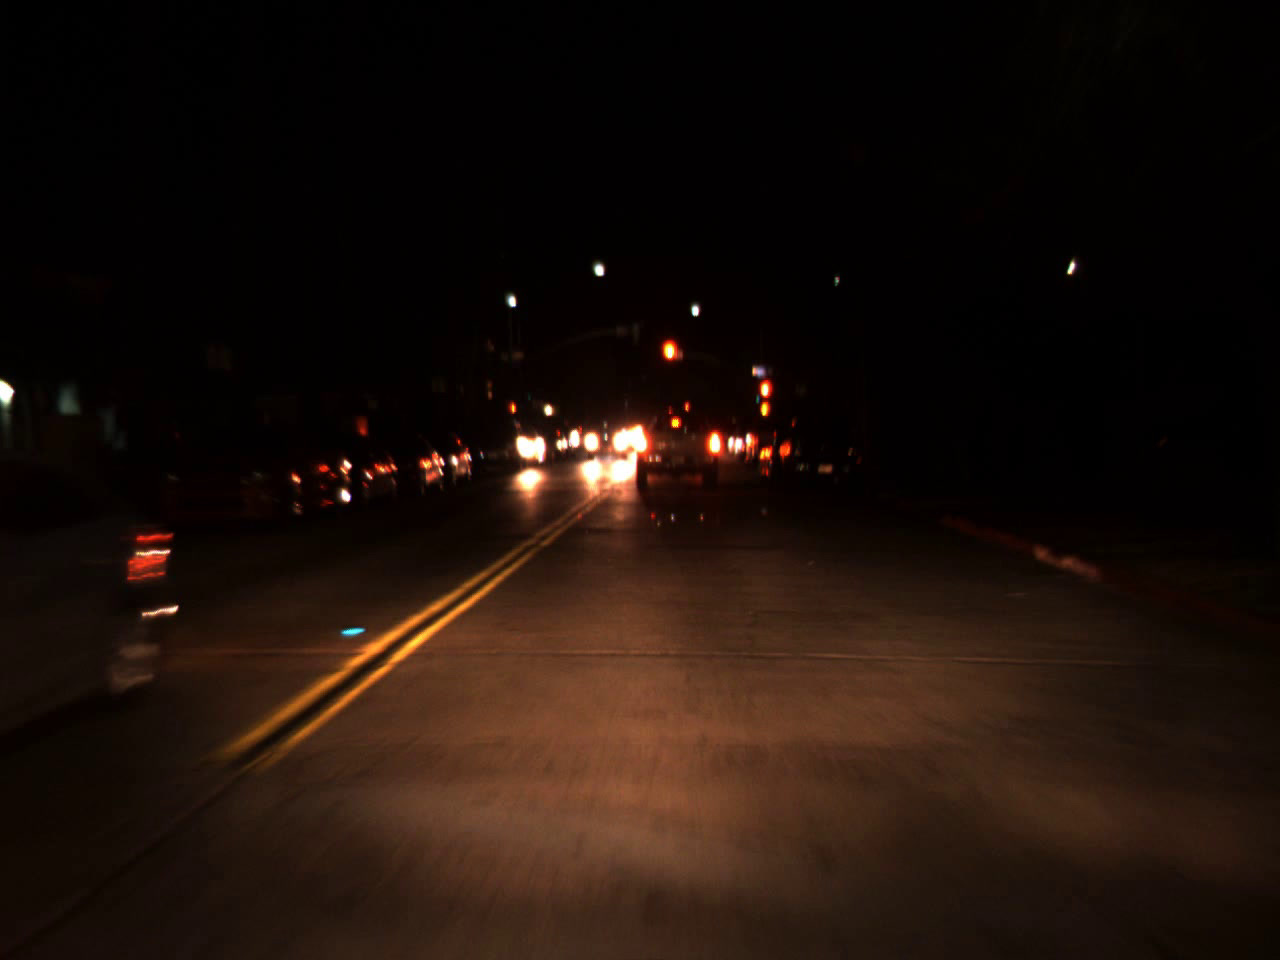stop: (659, 336, 681, 387), (757, 375, 775, 423)
